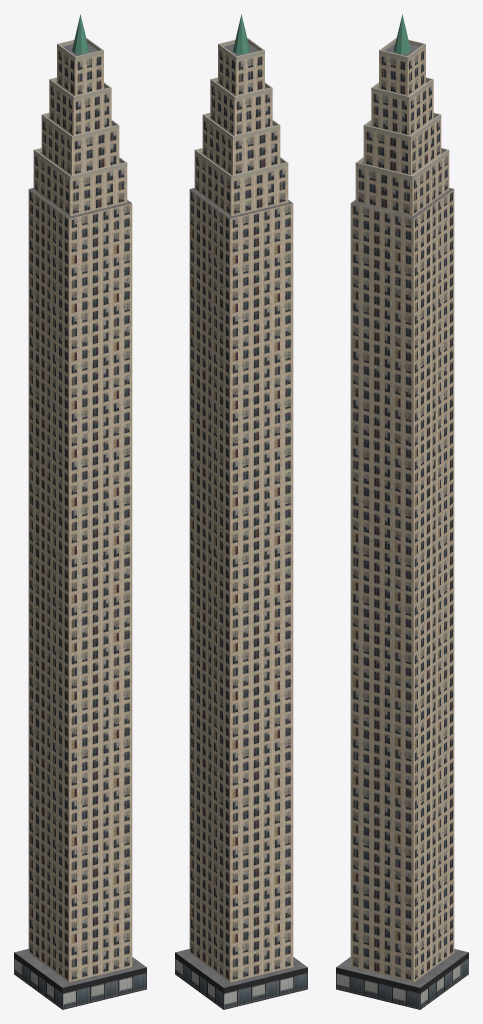
File: 052_pencil_terracotta.glb
3 renders of one model, left to right at view 1: azimuth 30°, elevation 25°; view 2: azimuth 210°, elevation 25°; view 3: azimuth 330°, elevation 25°, orthographic.
Parts seen in each view (by area): view 1: 052_pencil_terracotta; view 2: 052_pencil_terracotta; view 3: 052_pencil_terracotta.
Boxes of the visible parts, x1,y1,x2,y2 form: 052_pencil_terracotta: (14,14,146,1009); 052_pencil_terracotta: (175,14,307,1009); 052_pencil_terracotta: (336,14,468,1009).
Size of the model in its own units: 24 by 264 by 24.
Materials: 5 (4 with a texture image).
